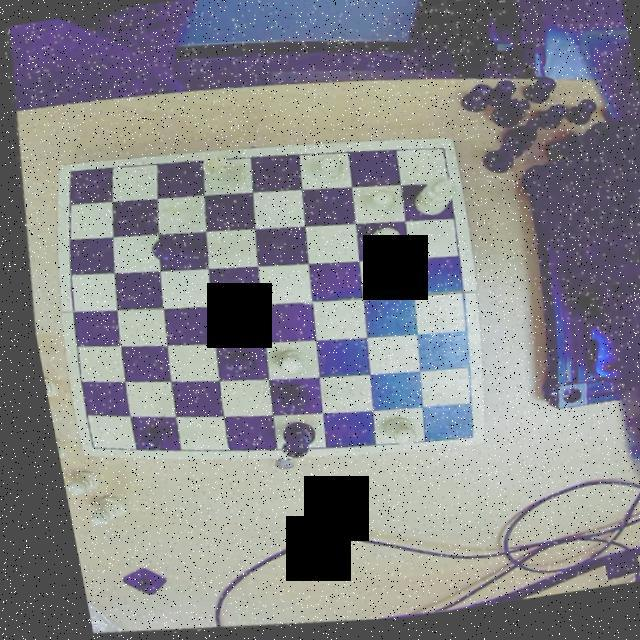chess-table-corners: (442, 427, 472, 452), (423, 145, 452, 170), (52, 162, 84, 184), (68, 433, 94, 456)
